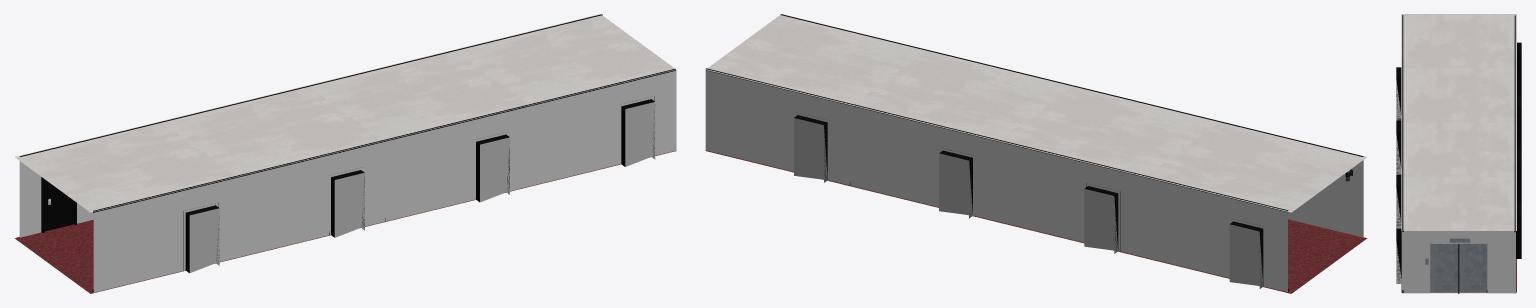
File: PASILLO.mtl.obj
3 views of the same model, side by side, from view 1: azimuth 30°, elevation 25°; view 2: azimuth 150°, elevation 25°; view 3: azimuth 270°, elevation 25° (orthographic). The views are drawn at different scales.
Visible parts, largest first — view 1: pared_2_Plane.005, tech0o_Plane.003, pared_1_Plane, piso_Plane.001; view 2: pared_1_Plane, tech0o_Plane.003, pared_2_Plane.005, piso_Plane.001; view 3: tech0o_Plane.003, elevador_Plane.004, pared_2_Plane.005, pared_1_Plane, piso_Plane.001.
Boxes of the visible parts, left/top/right/bottom form: pared_2_Plane.005: left=92, top=69, right=675, bottom=292; tech0o_Plane.003: left=15, top=14, right=676, bottom=212; pared_1_Plane: left=19, top=14, right=602, bottom=237; piso_Plane.001: left=14, top=150, right=675, bottom=293; pared_1_Plane: left=705, top=68, right=1288, bottom=292; tech0o_Plane.003: left=705, top=14, right=1366, bottom=212; pared_2_Plane.005: left=781, top=14, right=1363, bottom=237; piso_Plane.001: left=706, top=150, right=1367, bottom=293; tech0o_Plane.003: left=1401, top=14, right=1516, bottom=230; elevador_Plane.004: left=1401, top=231, right=1515, bottom=293; pared_2_Plane.005: left=1396, top=15, right=1403, bottom=283; pared_1_Plane: left=1514, top=15, right=1521, bottom=293; piso_Plane.001: left=1401, top=259, right=1516, bottom=292.
Size of the model in its own units: 50.05 by 6.66 by 12.14.
